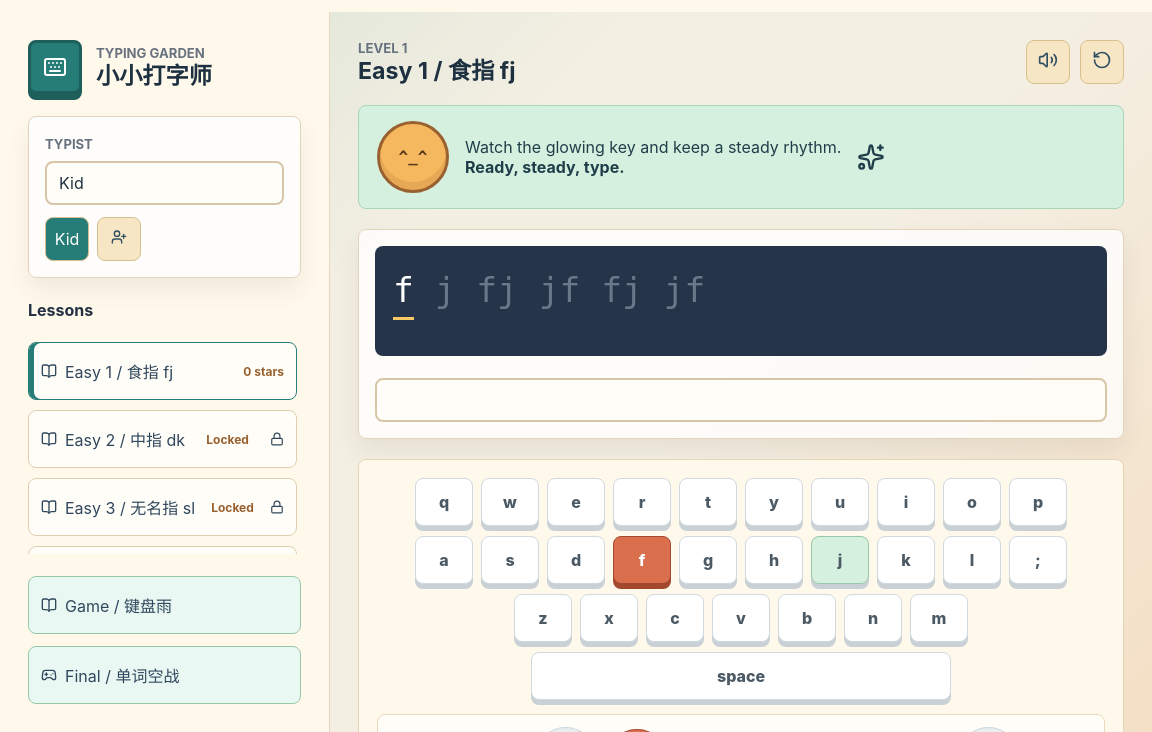
Test: App › records mistakes while the child practices
Click the field named "Typing input" at [741, 400], box [375,378,1107,422]
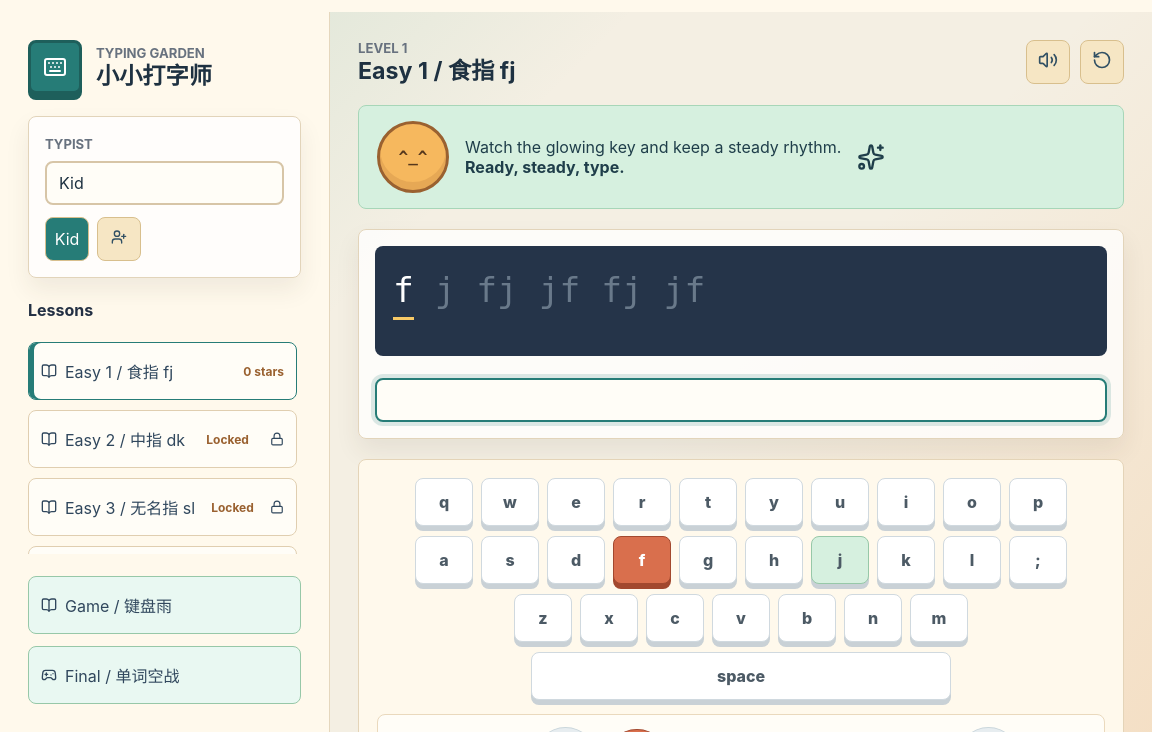
Type keys "fx"
(page scrolled)
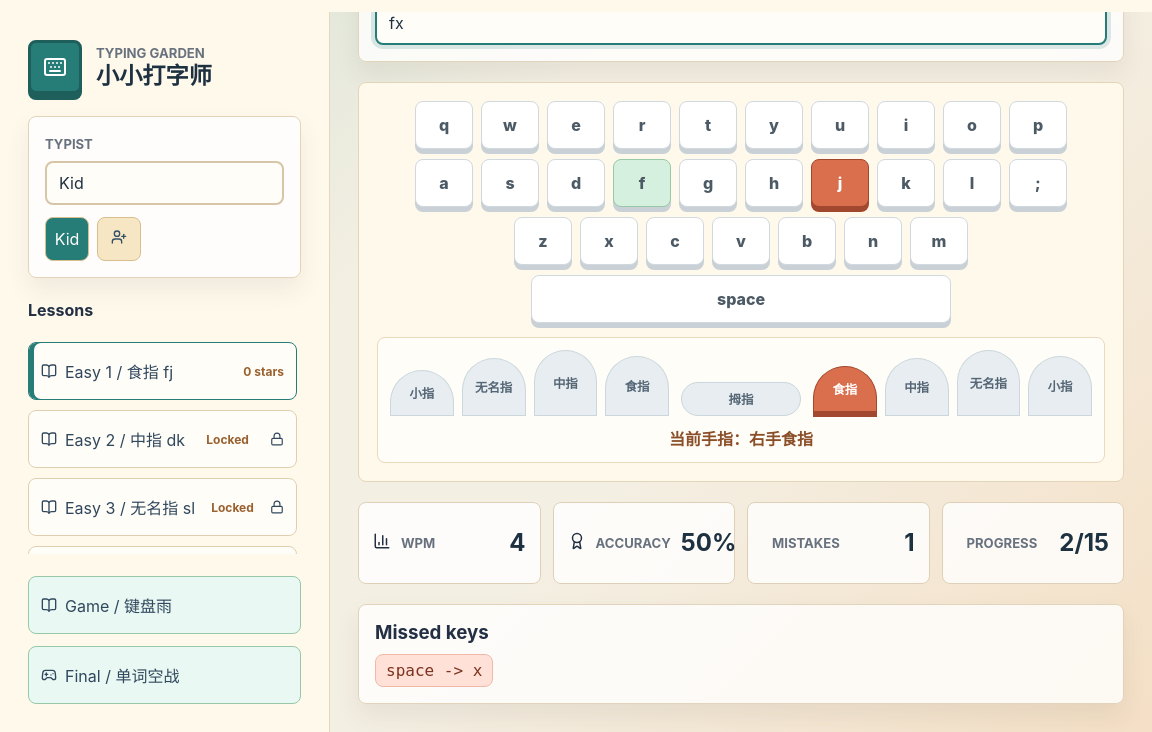
Now the heading "Missed keys" is shown, box [375,621,489,644]
Now the list item "space -> x" is shown, box [375,654,493,687]
